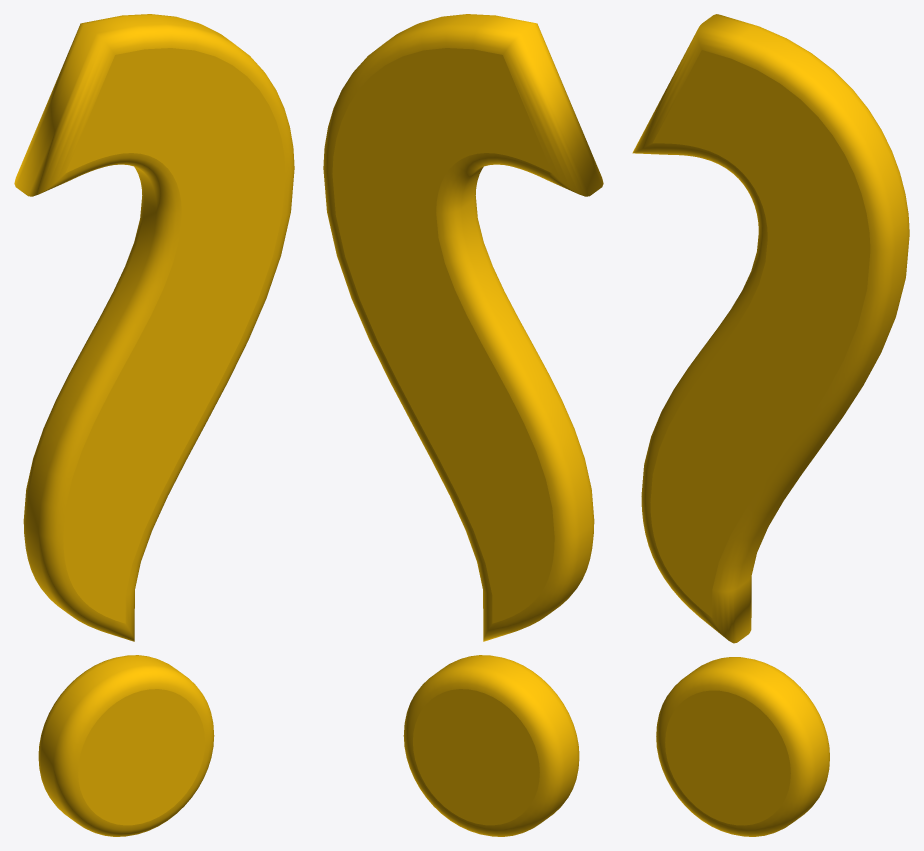
Rendered from quest markers.glb.
The picture shows the model from 3 angles, left to right: view 1: azimuth 30°, elevation 25°; view 2: azimuth 150°, elevation 25°; view 3: azimuth 330°, elevation 25°; orthographic projection.
Visible parts, largest first — view 1: Updated; view 2: Updated; view 3: Updated.
Boxes of the visible parts, <box> form: Updated: <box>14,14,294,836</box>; Updated: <box>323,14,603,836</box>; Updated: <box>632,14,909,836</box>.
Bounding box in the file's own units: 0.2497 × 0.7305 × 0.05.
